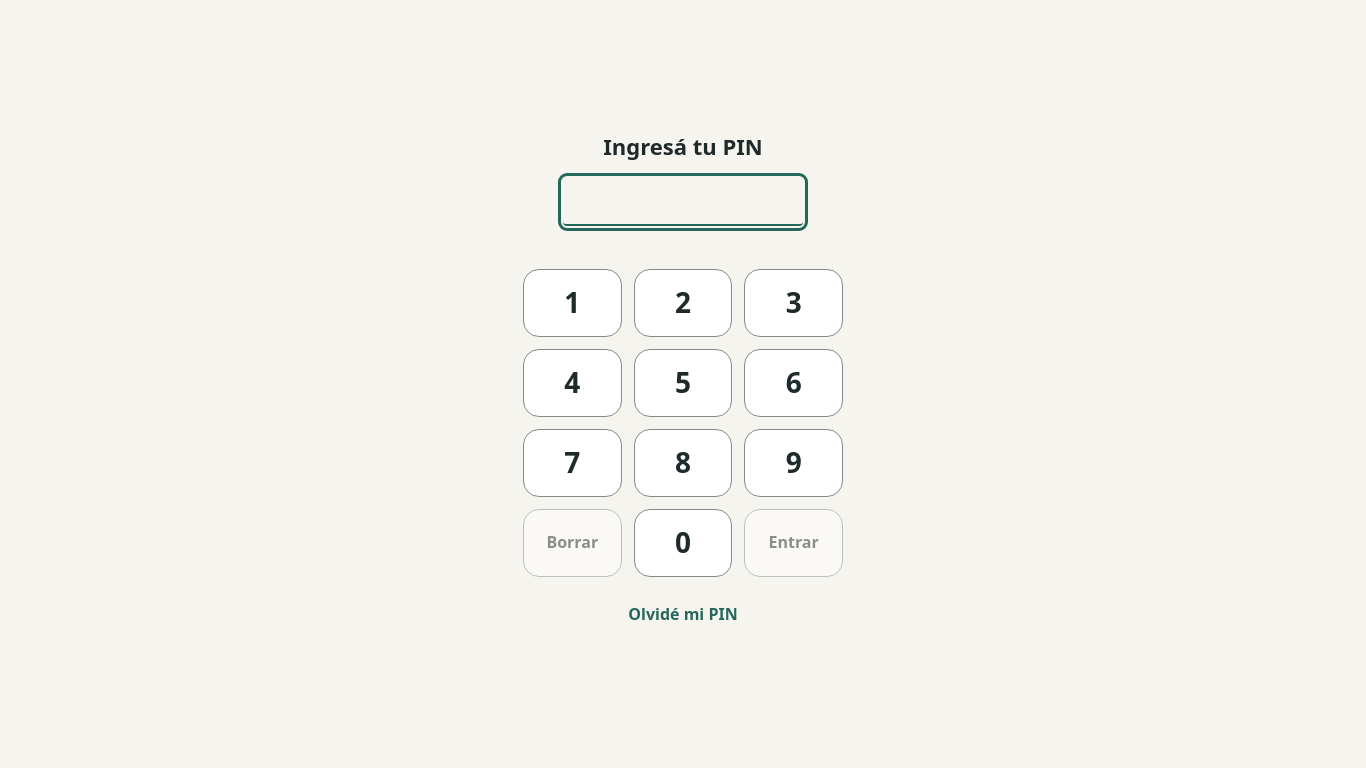
it: al abrir la app › un PIN incorrecto avisa, vacía lo tecleado y sigue bloqueada
Check: the heading "Ingresá tu PIN" is shown, box [603,131,763,162]
Click the button "4".
click(572, 383)  # box [523,349,622,417]
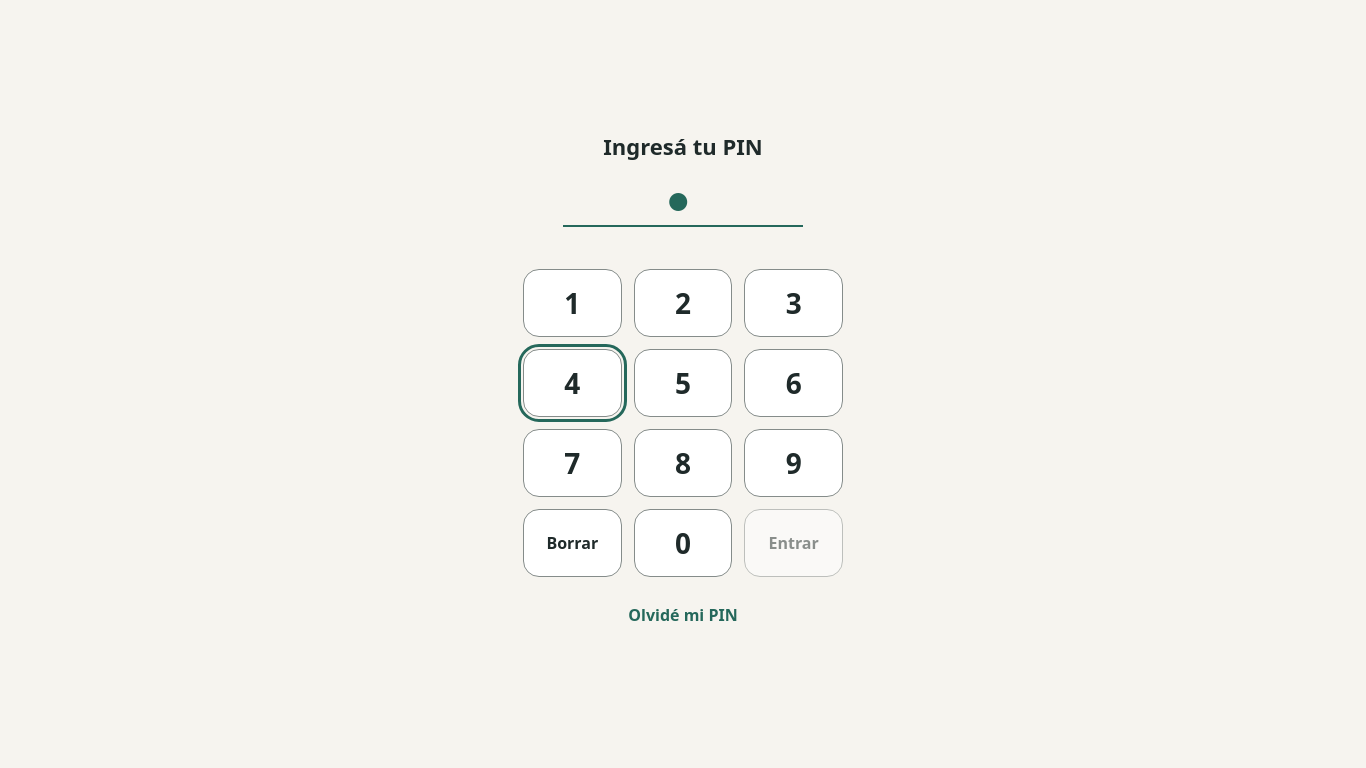
Click the button "3".
click(794, 303)  # box [744,269,843,337]
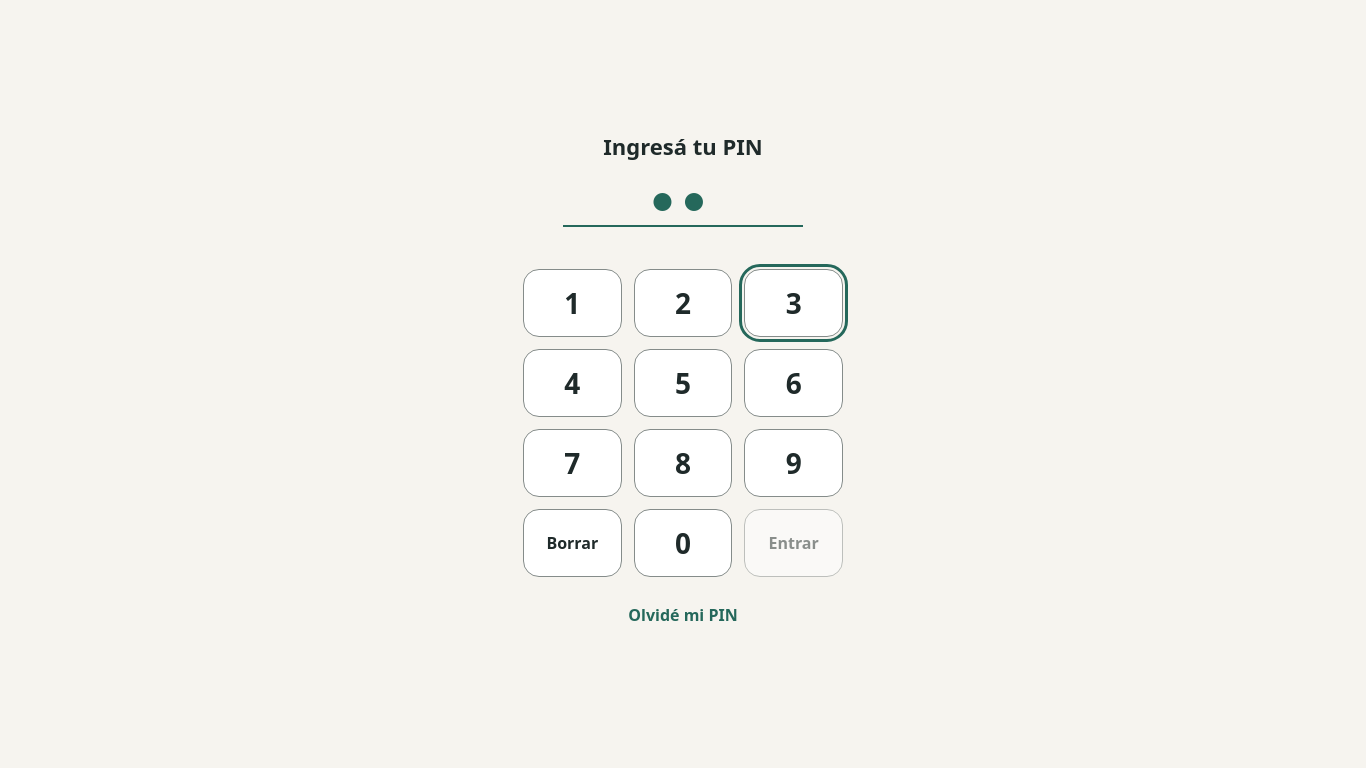
Click the button "2".
click(683, 303)  # box [634,269,732,337]
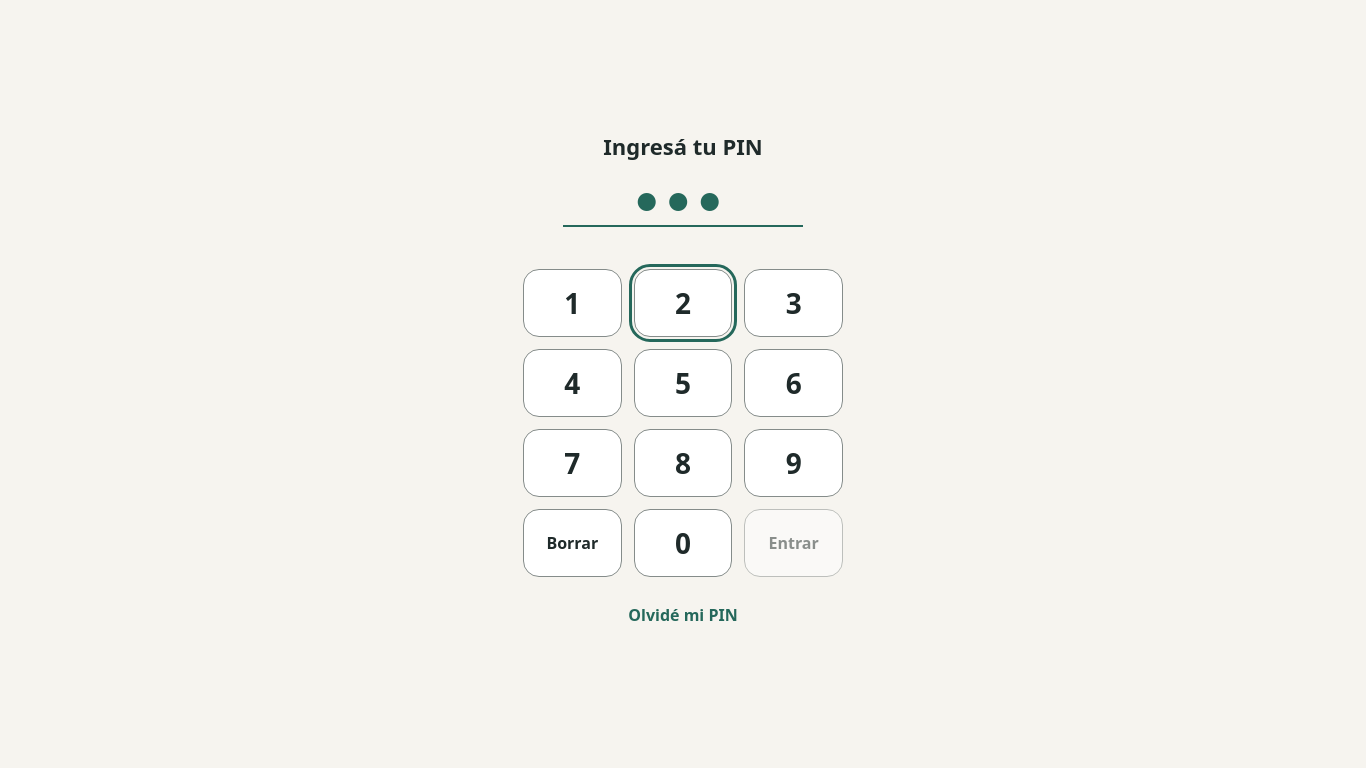
Click the button "1".
click(572, 303)  # box [523,269,622,337]
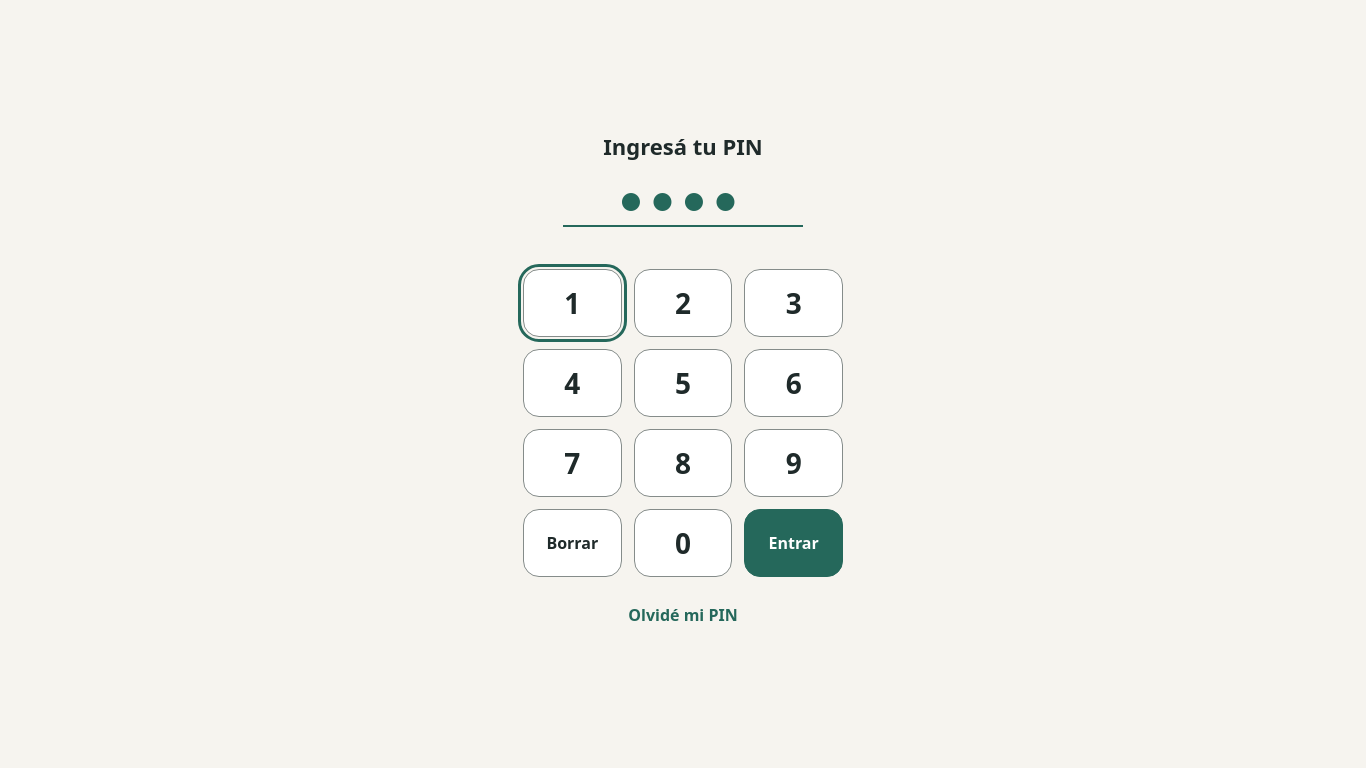
Check: the element named "4 dígitos ingresados" is shown, box [563,178,803,227]
Click the button "Entrar".
click(794, 543)  # box [744,509,843,577]
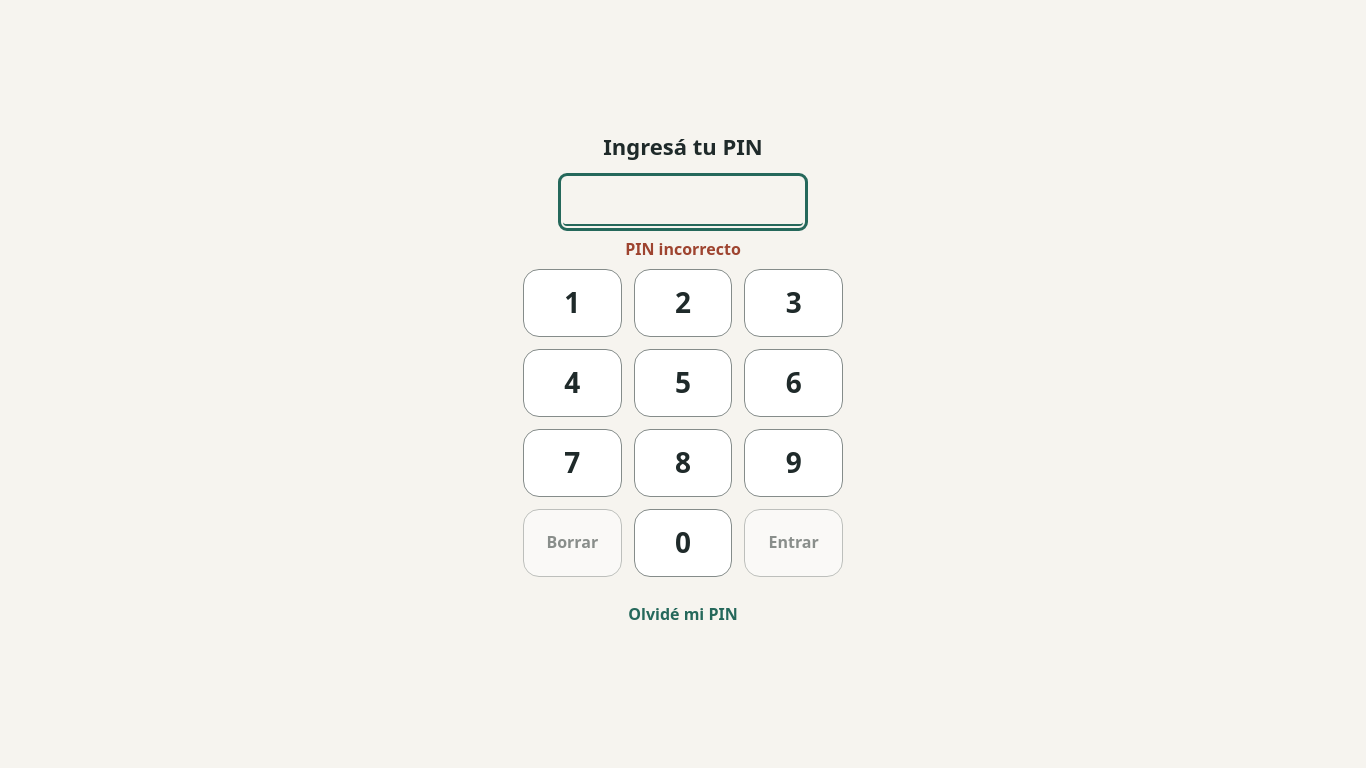
Check: the message reads "PIN incorrecto", box [625,238,741,260]
Check: the element named "0 dígitos ingresados" is shown, box [563,178,803,226]
Check: the button "Entrar" is disabled, box [744,509,843,577]
